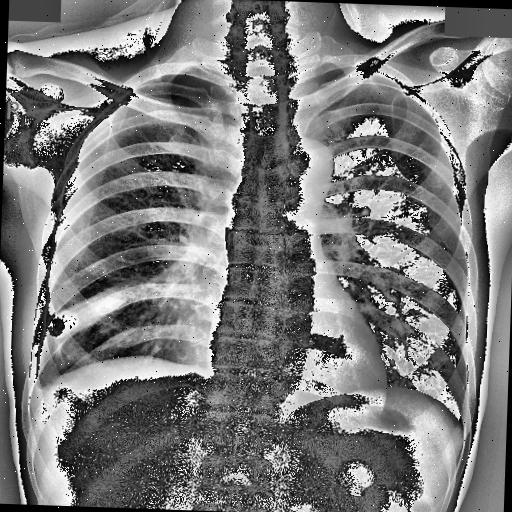0- Aortic enlargement: (264, 132, 336, 201)
10- Pleural effusion: (23, 340, 54, 420), (25, 372, 67, 410), (28, 375, 52, 402)
11- Pleural thickening: (23, 340, 54, 420), (25, 372, 67, 410), (28, 375, 52, 402)
13- Pulmonary fibrosis: (52, 339, 74, 371), (51, 338, 66, 364)
7- Lung Opacity: (44, 282, 122, 340)
9- Other lesion: (48, 274, 130, 341), (44, 288, 120, 342)
